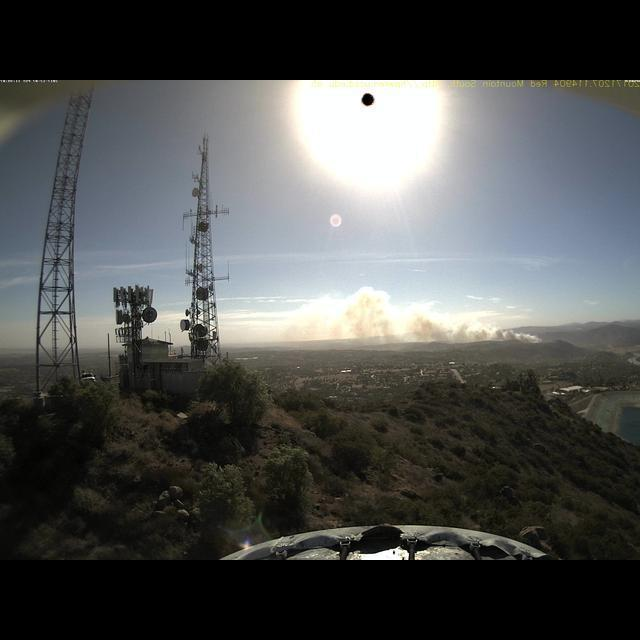Smoke: (258, 281, 545, 348)
